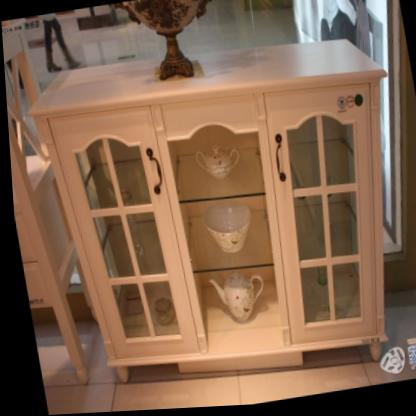Cupboard: (27, 43, 385, 376)
